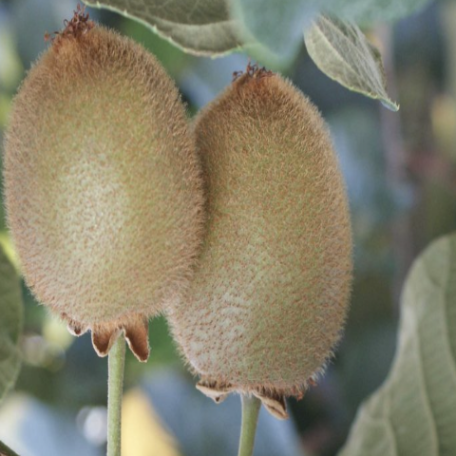kiwi: (152, 69, 372, 408), (4, 12, 206, 369)
